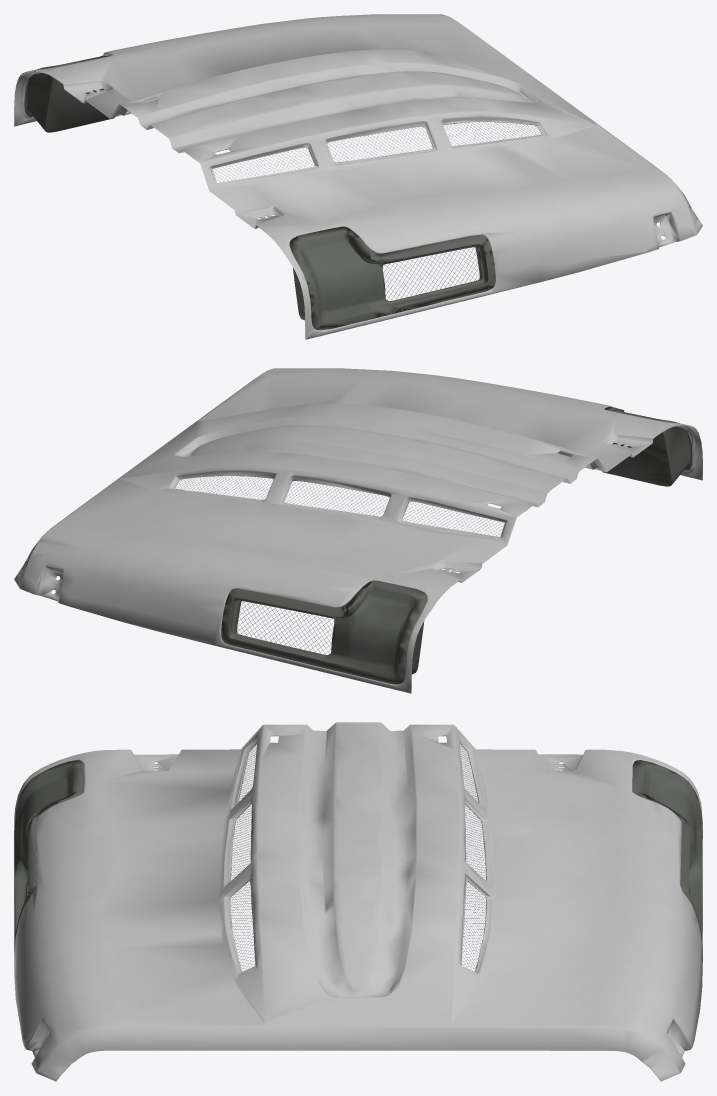
The model's file is bodyPart_hood_c01.glb.
3 renders of one model, top to bottom at view 1: azimuth 30°, elevation 25°; view 2: azimuth 150°, elevation 25°; view 3: azimuth 270°, elevation 25°, orthographic. The views are drawn at different scales.
Parts seen in each view (by area): view 1: hood_01_mesh_00; view 2: hood_01_mesh_00; view 3: hood_01_mesh_00.
Part boxes in pixels (x1,y1,x2,y2): hood_01_mesh_00: (14,14,702,339); hood_01_mesh_00: (14,368,702,693); hood_01_mesh_00: (14,722,702,1081).
Size of the model in its own units: 1.28 by 0.3132 by 1.55.
Materials: 2 (2 with a texture image).
